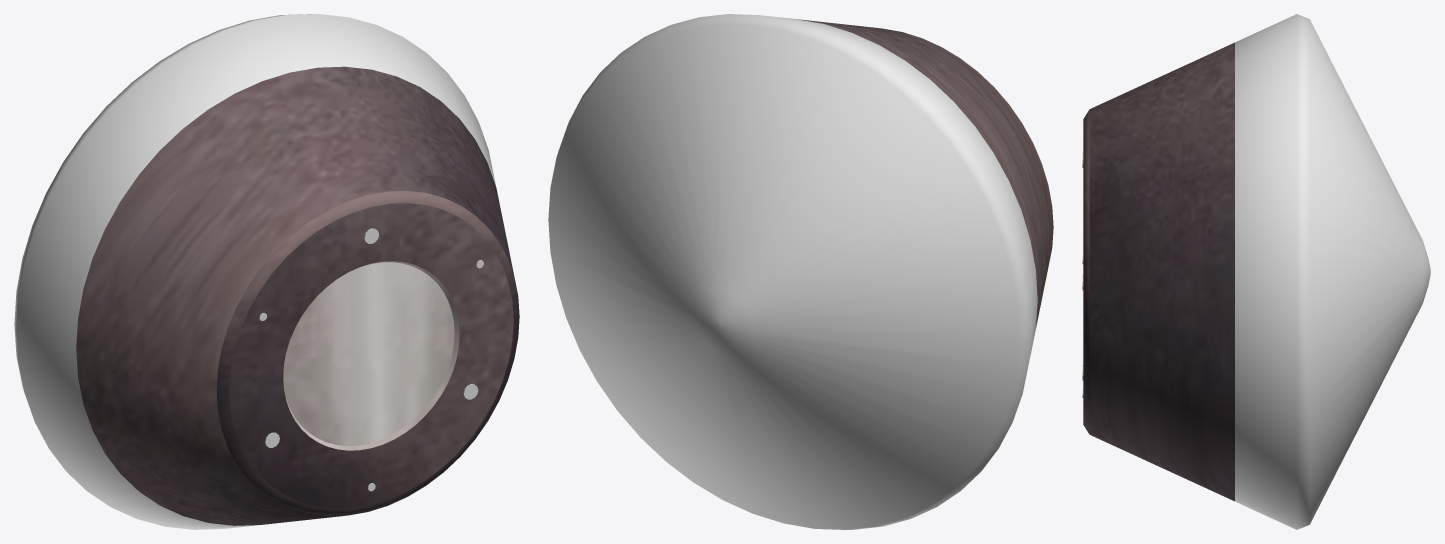
File: stardust_capsule.gltf
3 views of the same model, side by side, from view 1: azimuth 30°, elevation 25°; view 2: azimuth 150°, elevation 25°; view 3: azimuth 270°, elevation 25° (orthographic). The views are drawn at different scales.
Parts seen in each view (by area): view 1: Stardust_tex_01_c, Stardust_tex_01_c2, Stardust_tex_02_c; view 2: Stardust_tex_01_c2, Stardust_tex_01_c; view 3: Stardust_tex_01_c2, Stardust_tex_01_c.
Part boxes in pixels (x1,y1,x2,y2): Stardust_tex_01_c: [76, 66, 519, 525]; Stardust_tex_01_c2: [14, 14, 495, 529]; Stardust_tex_02_c: [259, 228, 483, 491]; Stardust_tex_01_c2: [548, 14, 1037, 529]; Stardust_tex_01_c: [798, 19, 1053, 329]; Stardust_tex_01_c2: [1235, 14, 1430, 529]; Stardust_tex_01_c: [1083, 42, 1234, 501].
Size of the model in its own units: 0.7232 by 0.7232 by 0.4877.
4 materials, 1 textured.
